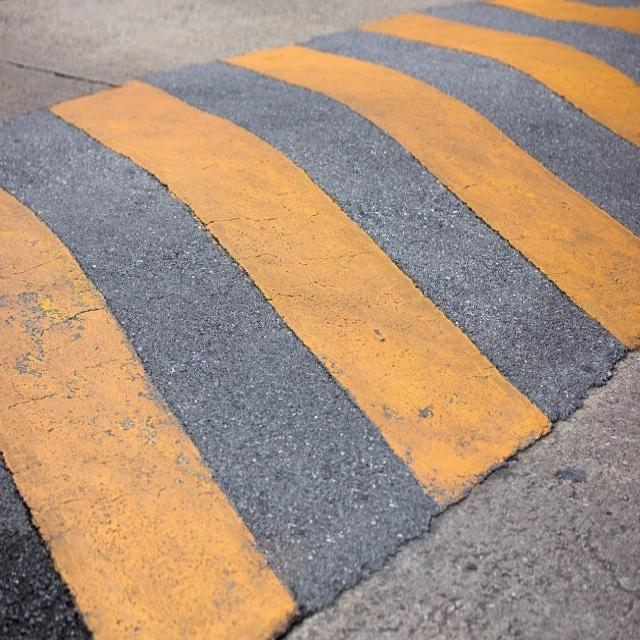speedbreaker: (4, 11, 640, 596)
